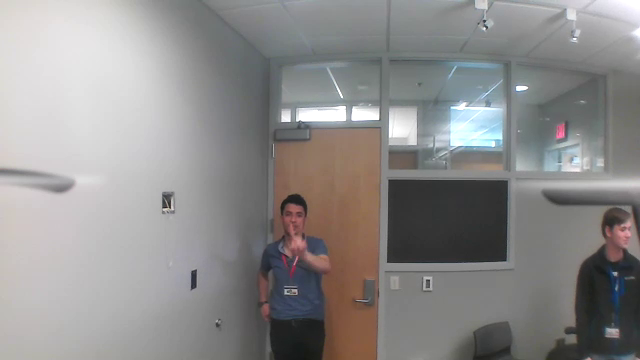peace: (281, 221, 313, 262)
